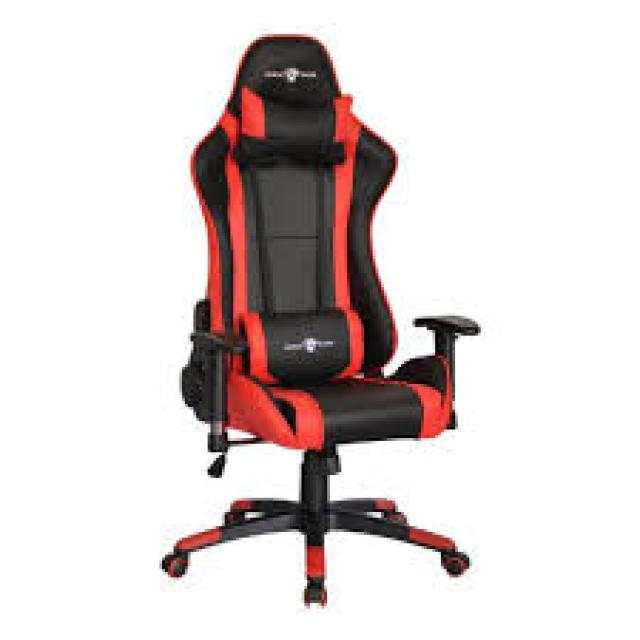chair: (76, 22, 565, 640)
